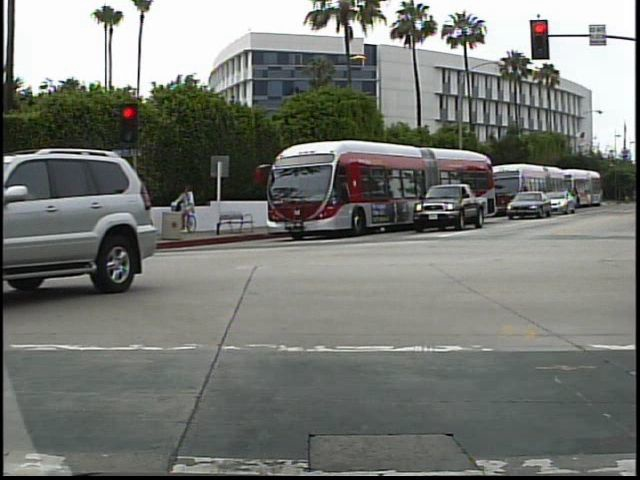person: (177, 183, 201, 235)
